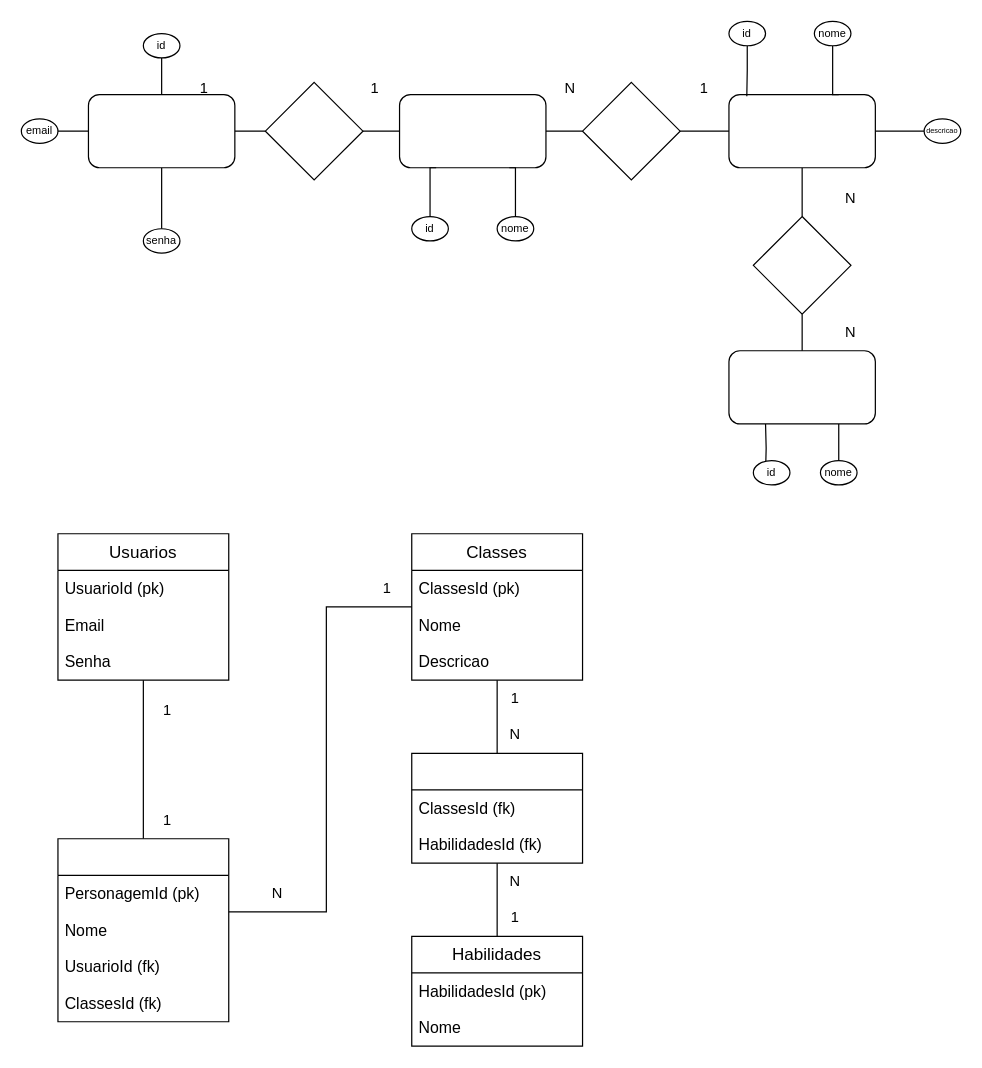
The diagram is 982 pixels wide and 1068 high, and some of its shapes have lost their labels. Here are the shapes that lost their labels. From the top down, the box of each, then its label:
(87, 93, 235, 168): usuário
(398, 93, 546, 168): personagem
(728, 93, 875, 168): classe
(728, 350, 875, 424): Habilidade
(411, 752, 583, 863): ClassesHabilidades
(57, 838, 229, 1022): Personagens
